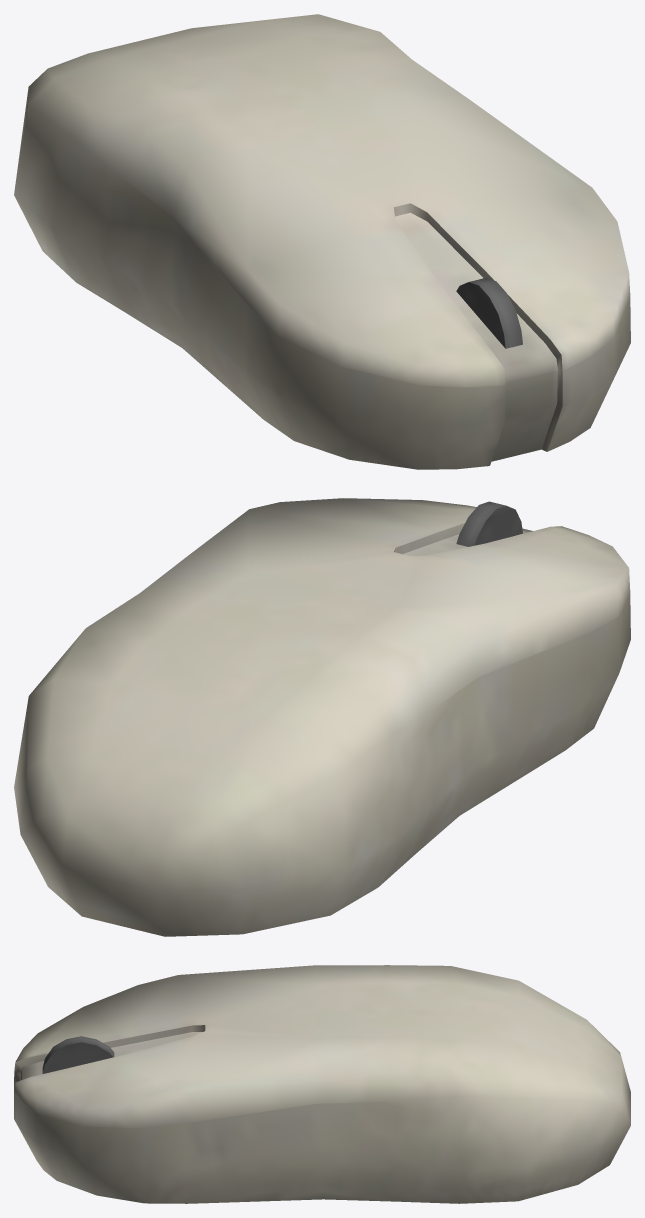
The model's file is propMouse.fbx.
3 renders of one model, top to bottom at view 1: azimuth 30°, elevation 25°; view 2: azimuth 150°, elevation 25°; view 3: azimuth 270°, elevation 25°, orthographic. The views are drawn at different scales.
Parts seen in each view (by area): view 1: propMouse; view 2: propMouse; view 3: propMouse.
Boxes of the visible parts, x1,y1,x2,y2 form: propMouse: (14,14,630,469); propMouse: (14,498,630,936); propMouse: (14,965,630,1203).
Bounding box in the file's own units: 5.92 × 3.19 × 12.66.
Materials: 1 (1 with a texture image).
